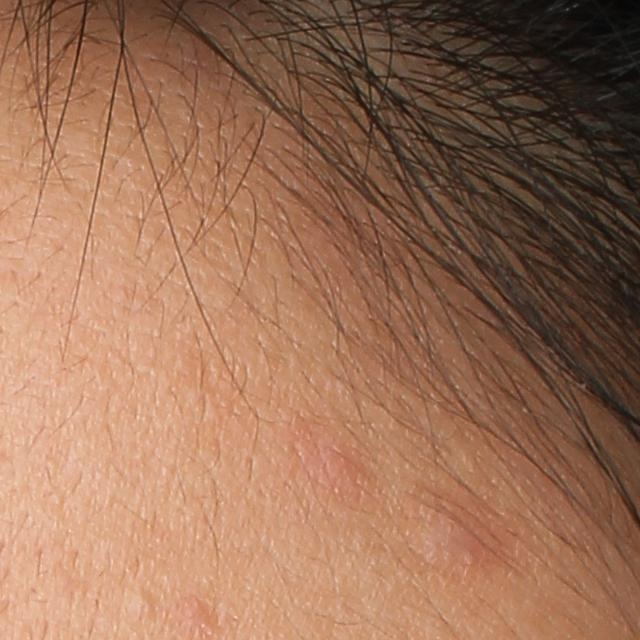comedo: (128, 587, 156, 618)
